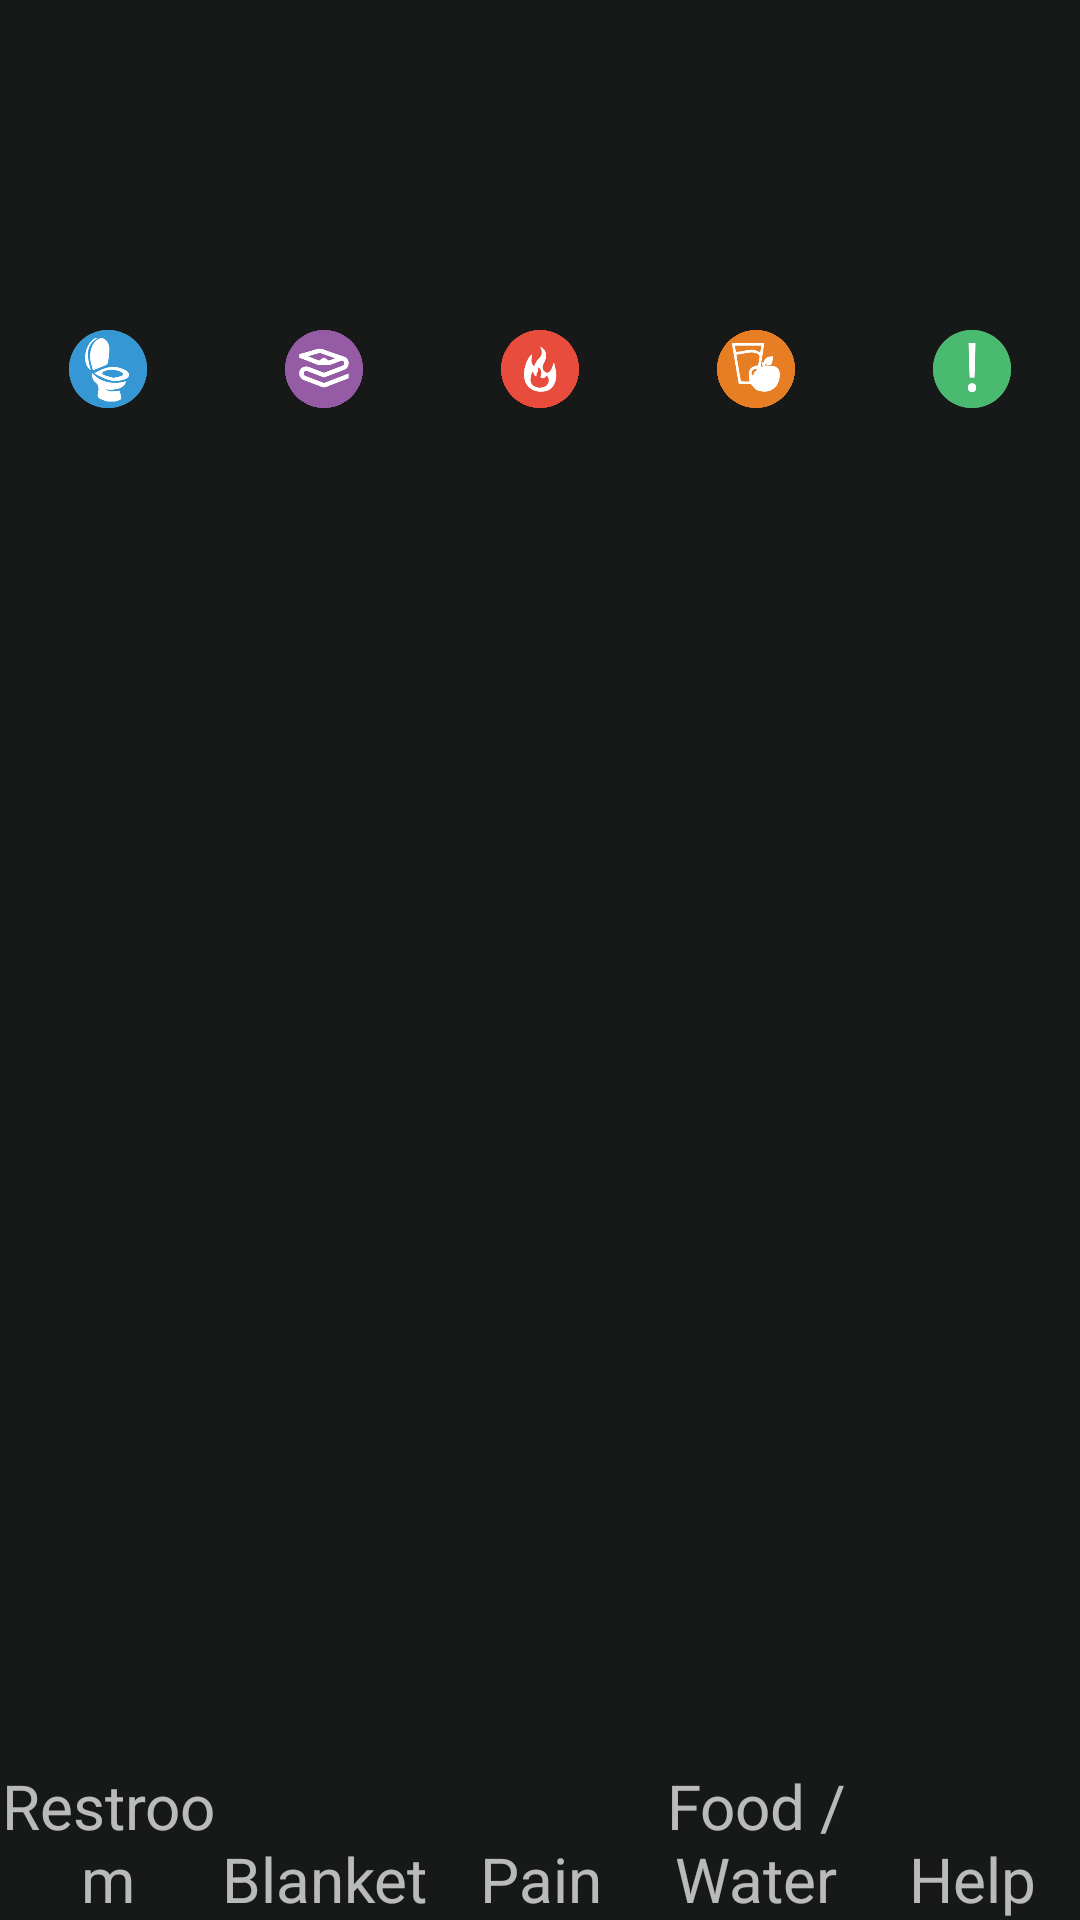

Screen size 1080w x 1920h. Icon name, then its center in pixels as (x,y):
call bell blanket: (324,369)
call bell food: (756,369)
call bell help: (972,369)
call bell pain: (540,369)
call bell restroom: (108,369)
